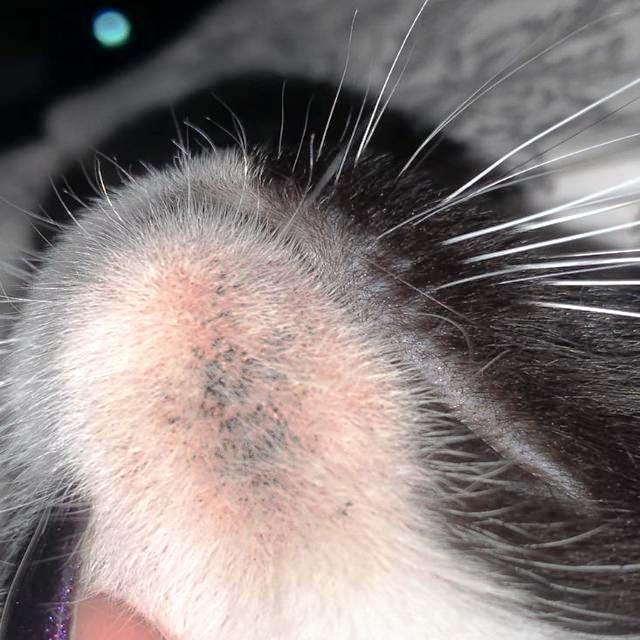acne: (158, 250, 376, 540)
